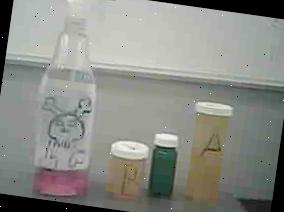Bottle A: (180, 98, 236, 205)
Bottle B: (104, 139, 150, 199)
Bottle C: (144, 130, 184, 200)
hazard: (19, 0, 123, 203)
